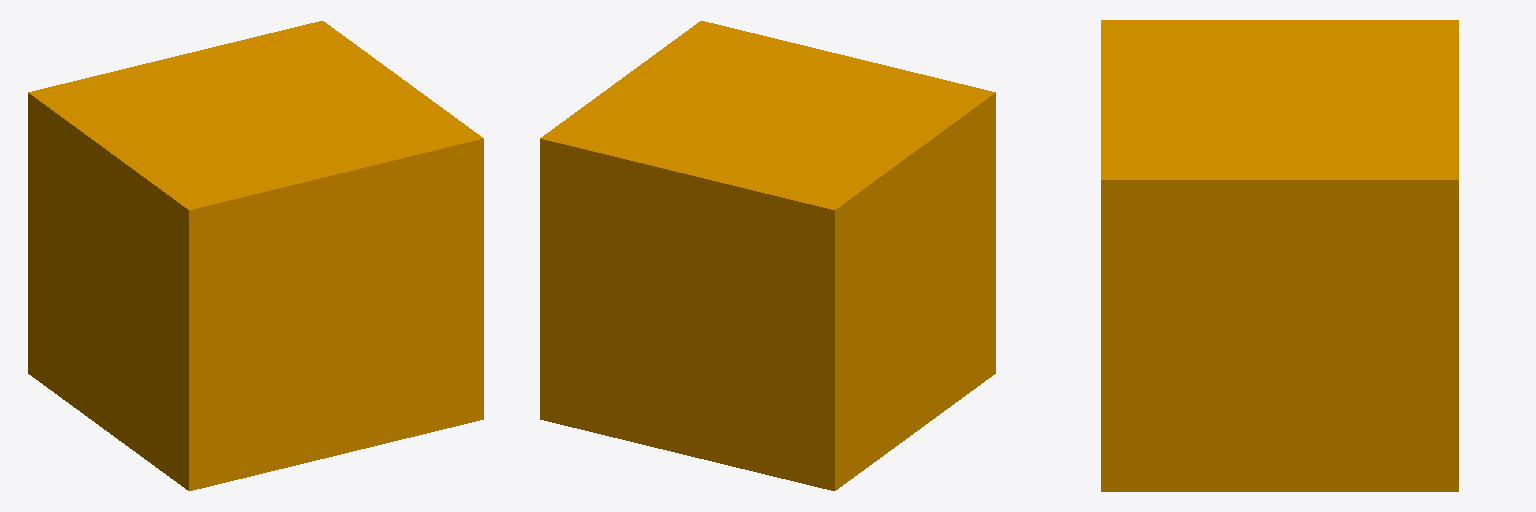
URDF robot description (object):
<?xml version="1.0"?>
<!-- Auto-generated by tools/gen_primitive_objects.py. kind=box dims=(0.071845, 0.068043, 0.065459) -->
<robot name="object">
  <link name="object">
    <visual>
      <origin xyz="0 0 0"/>
      <geometry>
        <box size="0.071845 0.068043 0.065459"/>
      </geometry>
    </visual>
    <collision>
      <origin xyz="0 0 0"/>
      <geometry>
        <box size="0.071845 0.068043 0.065459"/>
      </geometry>
    </collision>
    <inertial>
      <mass value="0.064000"/>
      <inertia ixx="0.00004755" ixy="0.0" ixz="0.0" iyy="0.00005038" iyz="0.0" izz="0.00005222"/>
    </inertial>
  </link>
</robot>

--- Render facts (derived) ---
The picture shows the robot from 3 angles, left to right: view 1: azimuth 30°, elevation 25°; view 2: azimuth 150°, elevation 25°; view 3: azimuth 270°, elevation 25°; orthographic projection.
Robot: object — 1 links, 0 joints (none); root link object; default pose: every joint at zero.
Visible links, largest first — view 1: object; view 2: object; view 3: object.
Link boxes in pixels (x1=…): object: x1=28, y1=21, x2=483, y2=490; object: x1=540, y1=21, x2=995, y2=490; object: x1=1101, y1=20, x2=1458, y2=491.
Size in the robot's own frame: 0.0718 by 0.068 by 0.0655 metres.
Geometry: primitives only (box / cylinder / sphere), no mesh files.
